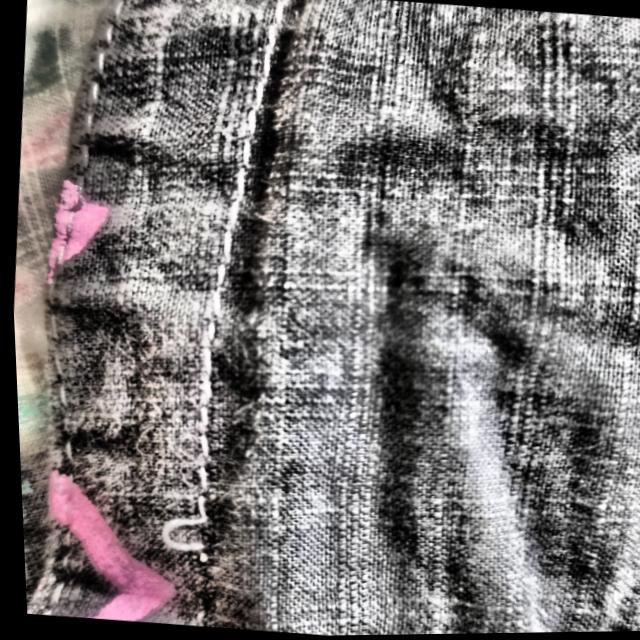Stitch: (113, 480, 244, 600)
